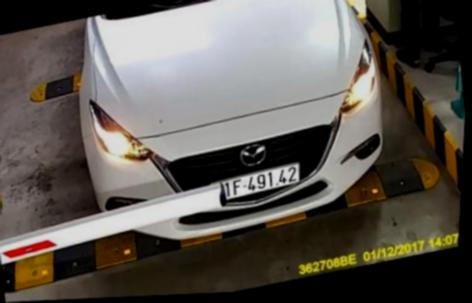License_Plate: (212, 162, 303, 211)
